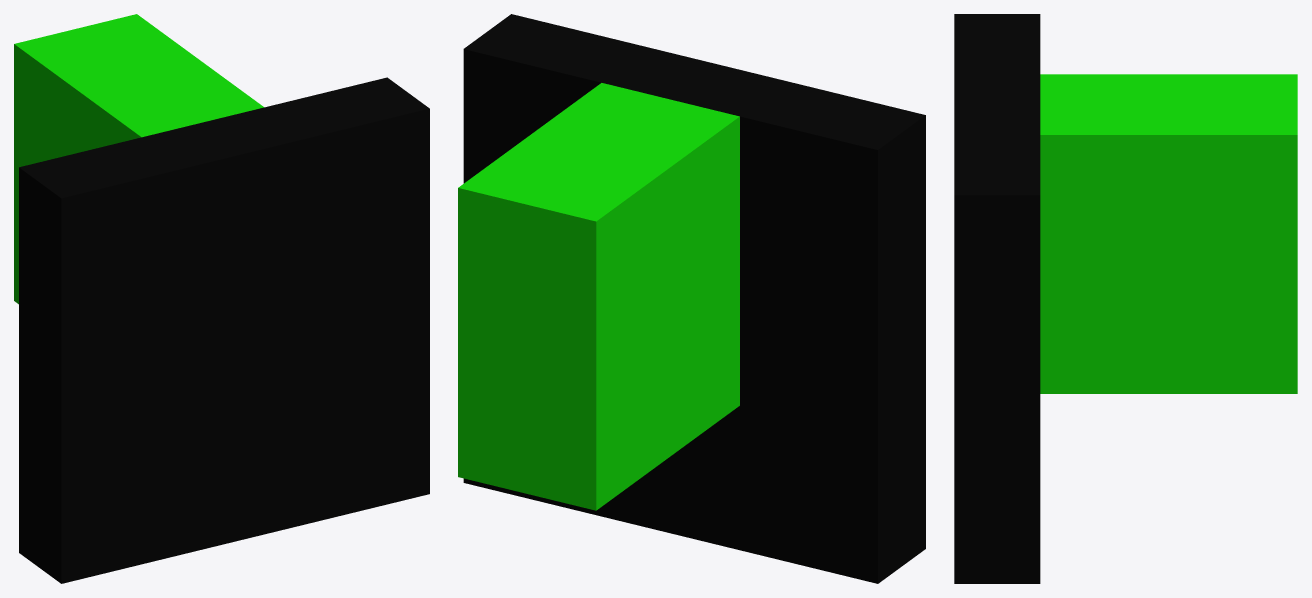
The picture shows the model from 3 angles, left to right: view 1: azimuth 30°, elevation 25°; view 2: azimuth 150°, elevation 25°; view 3: azimuth 270°, elevation 25°; orthographic projection. The views are drawn at different scales.
Parts seen in each view (by area): view 1: Cube, Cube.004; view 2: Cube.004, Cube; view 3: Cube.004, Cube.
Boxes of the visible parts, x1,y1,x2,y2 form: Cube: [19, 77, 429, 583]; Cube.004: [14, 14, 264, 304]; Cube.004: [458, 50, 877, 583]; Cube: [463, 14, 925, 583]; Cube.004: [1040, 74, 1297, 393]; Cube: [954, 14, 1040, 583].
Size of the model in its own units: 1 by 1 by 0.8.
